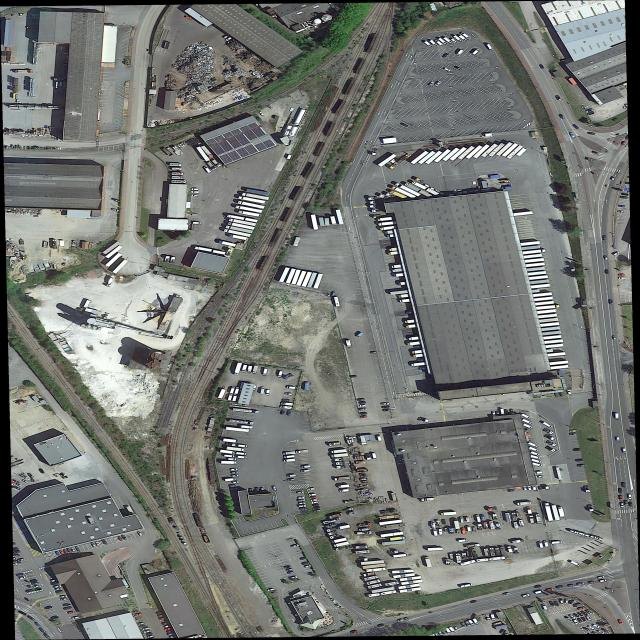large-vehicle: (569, 529, 604, 541), (395, 182, 421, 197), (389, 153, 412, 169), (391, 186, 416, 199), (237, 201, 266, 210), (229, 218, 257, 227), (368, 590, 397, 598), (241, 192, 270, 200), (238, 196, 266, 204), (235, 205, 263, 213), (228, 222, 256, 230), (225, 226, 253, 234), (224, 229, 252, 237), (238, 210, 261, 218), (200, 145, 214, 158), (544, 503, 554, 521), (232, 408, 261, 414), (229, 419, 255, 425), (390, 190, 407, 199), (229, 234, 249, 241), (399, 587, 422, 593), (412, 181, 427, 190), (218, 240, 237, 247), (234, 362, 243, 376), (522, 249, 547, 254), (536, 305, 560, 310), (405, 183, 420, 191), (331, 537, 348, 544), (400, 576, 423, 581), (398, 584, 421, 589), (226, 446, 245, 452), (194, 246, 213, 252), (366, 579, 382, 586), (393, 573, 415, 578), (401, 580, 423, 585), (219, 449, 236, 455), (335, 545, 352, 551), (366, 567, 386, 572), (207, 162, 218, 171), (460, 560, 476, 566), (367, 583, 383, 589), (384, 581, 400, 587), (333, 541, 349, 547), (543, 433, 555, 441), (364, 575, 379, 581), (222, 438, 240, 443), (424, 557, 433, 567), (227, 215, 245, 220), (331, 453, 349, 458), (328, 513, 343, 519), (211, 159, 222, 167), (390, 536, 407, 541), (356, 531, 373, 536), (335, 476, 352, 481), (337, 524, 351, 530), (545, 440, 557, 447), (542, 428, 554, 435), (517, 501, 533, 506), (489, 556, 505, 561), (441, 511, 457, 516), (106, 277, 114, 287), (355, 550, 371, 555), (378, 221, 394, 226), (331, 449, 347, 454), (437, 37, 447, 45), (417, 417, 430, 423), (542, 421, 553, 428), (520, 413, 531, 420), (442, 37, 453, 44), (466, 543, 481, 548), (377, 217, 392, 222), (380, 226, 395, 231), (558, 507, 565, 517), (453, 519, 460, 529), (411, 362, 425, 367), (452, 35, 462, 42), (428, 39, 438, 46), (570, 560, 580, 567), (427, 548, 444, 552), (531, 458, 542, 464), (528, 446, 539, 452), (521, 419, 532, 425), (527, 442, 538, 448), (545, 446, 556, 452), (363, 572, 376, 577), (407, 341, 420, 346), (338, 484, 351, 489), (460, 583, 473, 588), (500, 547, 507, 556), (484, 548, 491, 557), (529, 515, 536, 524), (203, 166, 212, 173), (489, 521, 496, 530), (252, 365, 259, 374), (434, 39, 443, 46), (455, 49, 464, 56), (455, 553, 461, 563), (512, 539, 524, 544), (536, 514, 542, 524), (334, 296, 340, 306), (304, 381, 310, 391), (359, 527, 371, 532), (532, 462, 542, 468), (523, 423, 533, 429), (423, 41, 433, 47), (15, 70, 34, 73), (489, 548, 496, 556), (518, 519, 525, 527), (240, 425, 254, 429), (169, 163, 183, 167), (225, 249, 233, 256), (486, 44, 494, 51), (587, 504, 594, 512), (392, 268, 403, 273), (344, 507, 355, 512), (326, 527, 337, 532), (530, 455, 541, 460), (529, 451, 540, 456), (505, 513, 511, 522), (284, 373, 293, 379), (52, 240, 58, 249), (460, 32, 469, 38), (458, 35, 467, 41), (296, 450, 309, 454), (387, 550, 400, 554), (355, 545, 368, 549), (171, 172, 184, 176), (359, 523, 372, 527), (281, 402, 294, 406), (329, 442, 342, 446), (221, 461, 238, 464), (379, 194, 389, 199), (386, 193, 396, 198), (409, 336, 419, 341), (405, 319, 415, 324), (415, 178, 425, 183), (328, 531, 338, 536), (330, 534, 340, 539), (526, 507, 533, 514), (507, 546, 514, 553), (241, 365, 248, 372), (345, 340, 352, 347), (449, 626, 456, 633), (472, 618, 479, 625), (516, 510, 522, 518), (495, 548, 501, 556), (511, 513, 517, 521), (421, 498, 437, 501), (476, 558, 488, 562), (284, 451, 296, 455), (357, 558, 369, 562), (411, 350, 423, 354), (391, 264, 403, 268), (356, 332, 364, 338), (262, 368, 268, 376), (227, 393, 233, 401), (472, 49, 480, 55), (235, 452, 247, 456), (584, 485, 590, 493), (171, 180, 186, 183), (284, 455, 295, 459), (286, 474, 297, 478), (226, 442, 237, 446), (172, 167, 183, 171), (388, 251, 399, 255), (406, 324, 417, 328), (400, 299, 411, 303), (393, 273, 404, 277), (336, 465, 347, 469), (339, 489, 350, 493), (344, 500, 355, 504), (538, 486, 549, 490), (237, 444, 248, 448), (225, 478, 236, 482), (487, 507, 498, 511), (513, 522, 519, 529), (475, 515, 481, 522), (483, 522, 489, 529), (164, 256, 170, 263), (170, 257, 176, 264), (372, 453, 378, 460), (365, 453, 371, 460), (232, 394, 238, 401), (277, 371, 283, 378), (230, 386, 236, 393), (234, 387, 240, 394), (499, 408, 505, 415), (445, 628, 452, 634), (538, 541, 544, 548), (492, 513, 498, 520), (481, 515, 487, 522), (432, 529, 438, 536), (542, 604, 548, 611), (431, 521, 436, 529), (384, 230, 394, 234), (247, 365, 252, 373), (370, 204, 380, 208), (413, 354, 423, 358), (399, 294, 409, 298), (237, 455, 247, 459), (458, 539, 468, 543), (534, 590, 544, 594), (573, 603, 583, 607), (283, 459, 296, 462), (171, 176, 184, 179), (280, 406, 293, 409), (372, 209, 381, 213), (376, 435, 382, 441), (543, 541, 549, 547), (490, 614, 496, 620), (514, 547, 519, 554), (486, 614, 491, 621), (437, 520, 442, 527), (260, 387, 265, 394), (468, 620, 475, 625), (466, 525, 471, 532), (438, 528, 443, 535), (335, 462, 346, 465), (551, 541, 562, 544), (398, 282, 406, 286), (462, 553, 467, 559), (462, 528, 467, 534), (460, 517, 465, 523), (477, 524, 482, 530), (388, 248, 398, 251), (368, 197, 378, 200), (334, 458, 344, 461), (370, 201, 379, 204), (534, 471, 543, 474), (496, 524, 501, 529), (193, 222, 201, 225), (387, 234, 395, 237), (615, 413, 619, 419)
small-vehicle: (392, 569, 414, 574), (18, 610, 28, 617), (42, 633, 51, 639), (26, 615, 35, 621), (591, 150, 600, 156), (571, 124, 580, 130), (453, 65, 462, 71), (15, 482, 24, 488), (13, 485, 22, 491), (582, 626, 591, 632), (600, 627, 609, 633), (584, 609, 593, 615), (50, 581, 60, 586), (286, 385, 296, 390), (441, 67, 451, 72), (591, 624, 601, 629), (38, 627, 46, 633), (612, 251, 620, 257), (442, 52, 450, 58), (434, 81, 442, 87), (427, 81, 435, 87), (52, 584, 61, 589), (143, 629, 152, 634), (585, 108, 594, 113), (224, 37, 233, 42), (289, 575, 298, 580), (469, 599, 478, 604), (21, 479, 30, 484), (596, 629, 605, 634), (224, 454, 235, 458), (34, 621, 41, 627), (137, 530, 143, 537), (102, 539, 109, 545), (569, 132, 576, 138), (555, 95, 562, 101), (27, 473, 34, 479), (38, 468, 45, 474), (572, 619, 579, 625), (576, 618, 583, 624), (585, 615, 592, 621), (185, 15, 193, 20), (44, 605, 52, 610), (63, 606, 73, 610), (67, 610, 75, 615), (586, 131, 596, 135), (620, 195, 628, 200), (586, 112, 596, 116), (222, 34, 230, 39), (283, 565, 291, 570), (299, 556, 307, 561), (267, 587, 275, 592), (587, 625, 595, 630), (580, 610, 588, 615), (596, 575, 606, 579), (111, 208, 120, 212), (49, 578, 58, 582), (54, 587, 63, 591), (25, 589, 34, 593), (18, 576, 27, 580), (30, 582, 39, 586), (29, 579, 38, 583), (32, 584, 41, 588), (16, 558, 25, 562), (121, 534, 127, 540), (50, 616, 59, 620), (62, 603, 71, 607), (301, 465, 310, 469), (301, 469, 310, 473), (307, 487, 316, 491), (141, 627, 150, 631), (71, 616, 80, 620), (91, 542, 97, 548), (75, 546, 81, 552), (382, 408, 391, 412), (286, 410, 292, 416), (284, 392, 293, 396), (619, 502, 625, 508), (290, 544, 299, 548), (284, 568, 293, 572), (349, 630, 358, 634), (396, 619, 405, 623), (502, 592, 511, 596), (555, 585, 564, 589), (576, 582, 585, 586), (577, 606, 586, 610), (617, 619, 623, 625), (113, 198, 120, 203), (70, 547, 77, 552), (265, 389, 270, 396), (330, 291, 337, 296), (620, 141, 627, 146), (258, 111, 265, 116), (267, 105, 274, 110), (450, 38, 457, 43), (558, 114, 565, 119), (464, 621, 471, 626), (569, 614, 576, 619), (581, 617, 588, 622), (568, 599, 575, 604), (191, 190, 199, 194), (60, 597, 68, 601), (59, 595, 67, 599), (55, 590, 63, 594), (17, 573, 25, 577), (145, 632, 153, 636), (137, 621, 145, 625), (135, 612, 143, 616), (618, 204, 626, 208), (621, 192, 629, 196), (618, 276, 626, 280), (313, 509, 321, 513), (286, 570, 294, 574), (377, 623, 385, 627), (576, 612, 584, 616), (572, 613, 580, 617), (522, 593, 530, 597), (587, 580, 595, 584), (599, 579, 607, 583), (117, 536, 123, 541), (94, 541, 100, 546), (381, 406, 391, 409), (357, 401, 367, 404), (358, 408, 368, 411), (280, 410, 286, 415), (567, 389, 572, 395), (491, 411, 496, 417), (602, 235, 607, 241), (608, 299, 613, 305), (611, 335, 617, 340), (621, 482, 626, 488), (628, 494, 633, 500), (538, 64, 544, 69), (532, 485, 537, 491), (66, 548, 72, 553), (63, 549, 69, 554), (58, 550, 64, 555), (55, 551, 61, 556), (453, 626, 459, 631), (139, 624, 146, 628), (298, 501, 305, 505), (309, 493, 318, 496), (359, 412, 368, 415), (381, 402, 390, 405), (356, 398, 365, 401), (533, 585, 542, 588), (545, 588, 554, 591), (628, 502, 633, 507), (510, 409, 515, 414), (611, 176, 616, 181), (603, 255, 608, 260), (615, 437, 620, 442), (618, 488, 623, 493), (618, 495, 623, 500), (527, 486, 532, 491), (255, 487, 260, 492), (260, 487, 265, 492), (272, 486, 277, 491), (472, 527, 477, 532), (441, 520, 446, 525), (549, 601, 554, 606), (554, 601, 559, 606), (559, 598, 564, 603), (190, 188, 198, 191), (287, 478, 295, 481), (146, 635, 154, 638), (360, 415, 368, 418), (282, 399, 290, 402), (535, 475, 543, 478), (577, 464, 585, 467), (575, 459, 583, 462), (573, 448, 581, 451), (569, 432, 577, 435), (617, 210, 625, 213), (622, 448, 626, 454), (313, 506, 321, 509), (301, 562, 309, 565), (303, 565, 311, 568), (298, 504, 306, 507), (229, 488, 237, 491), (228, 458, 236, 461), (230, 471, 238, 474), (231, 474, 239, 477), (232, 481, 240, 484), (229, 484, 237, 487), (567, 584, 575, 587), (191, 194, 198, 197), (298, 496, 305, 499), (297, 491, 304, 494), (298, 499, 305, 502), (370, 351, 377, 354), (350, 375, 357, 378), (569, 429, 576, 432), (618, 273, 625, 276), (310, 496, 317, 499), (310, 499, 317, 502), (311, 501, 318, 504), (312, 503, 319, 506), (230, 468, 237, 471), (508, 489, 515, 492), (624, 500, 628, 505), (496, 411, 500, 416), (604, 270, 609, 274), (523, 486, 527, 491), (565, 598, 569, 603), (358, 405, 367, 407), (250, 489, 253, 494), (299, 508, 306, 510)
